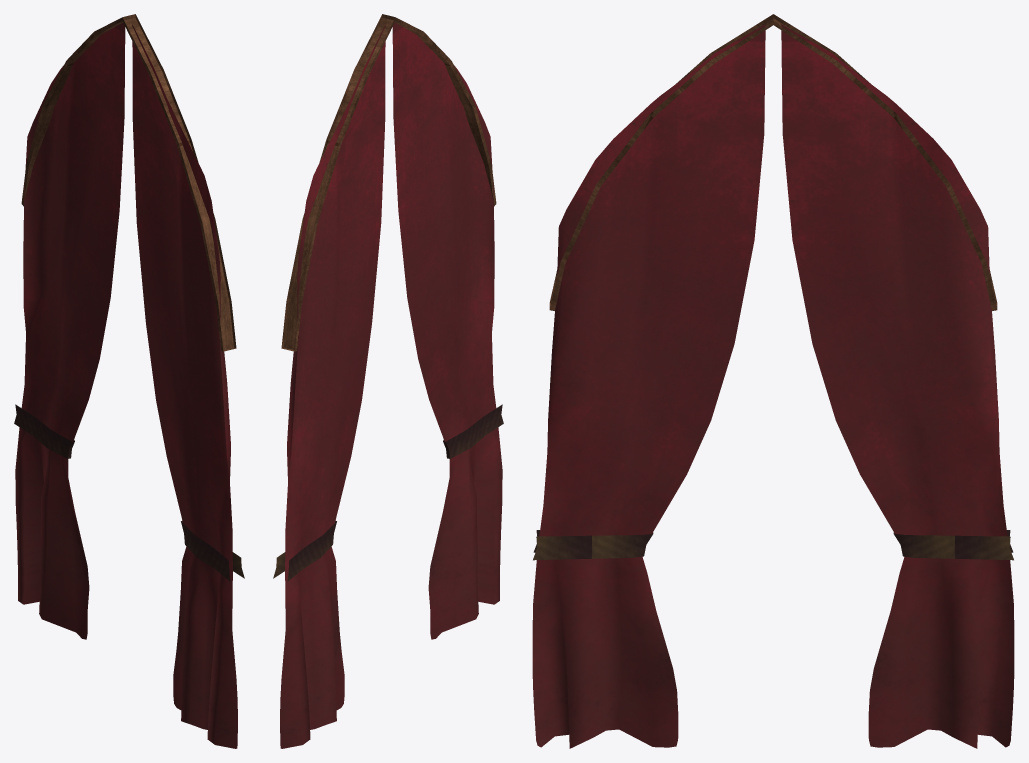
The model's file is zaslony.fbx.
3 views of the same model, side by side, from view 1: azimuth 30°, elevation 25°; view 2: azimuth 150°, elevation 25°; view 3: azimuth 270°, elevation 25° (orthographic). The views are drawn at different scales.
Visible parts, largest first — view 1: GridLP, Plane.003, BézierCircle; view 2: GridLP, Plane.003, BézierCircle; view 3: GridLP, BézierCircle, Plane.003.
Boxes of the visible parts, x1,y1,x2,y2 form: GridLP: (15,23,237,748); Plane.003: (21,14,236,351); BézierCircle: (14,404,244,581); GridLP: (280,23,502,748); Plane.003: (281,14,496,351); BézierCircle: (273,404,503,581); GridLP: (532,24,1014,748); BézierCircle: (533,530,1013,560); Plane.003: (549,14,997,310).
Size of the model in its own units: 33.53 by 755 by 452.
1 material, 1 textured.
